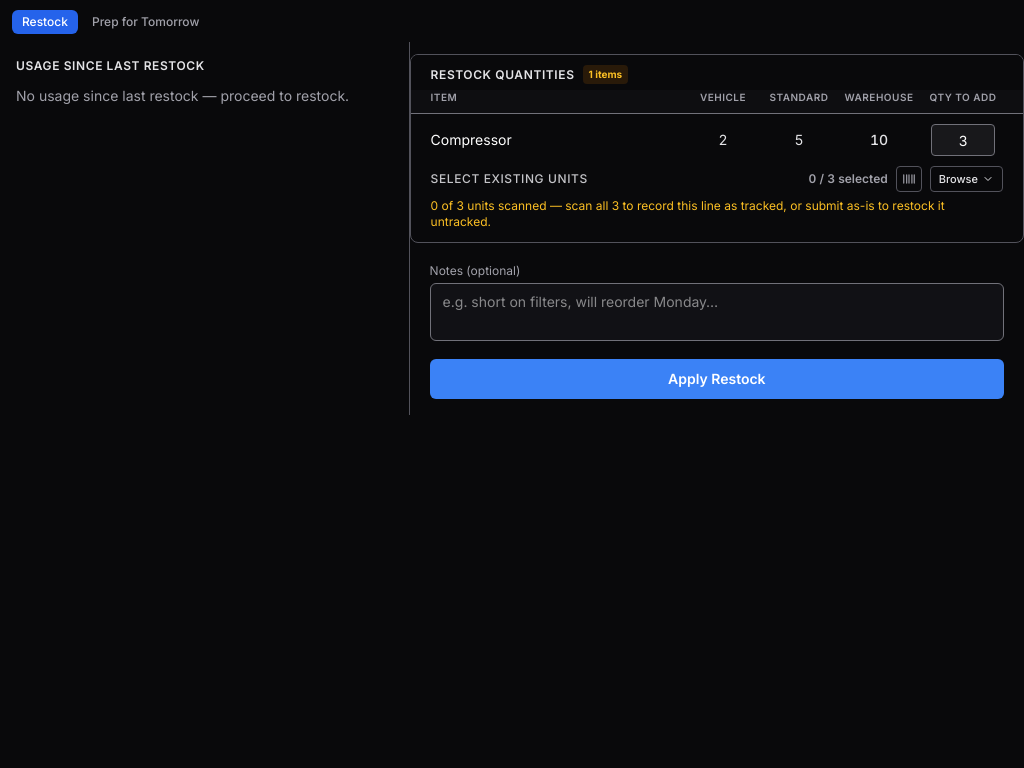
Test: RestockWorkflow — tracking capture (P8-2) › Browse reveals the candidate list and a serial search
Click the button "Browse". click: x=966, y=179
box: [930,166,1003,192]
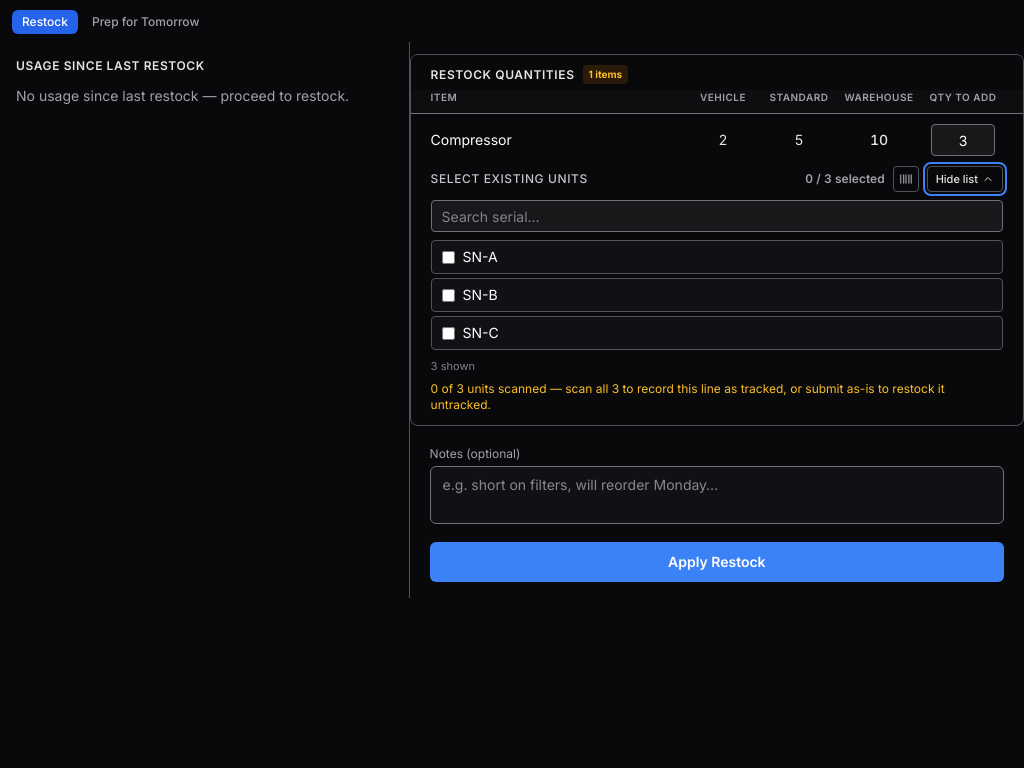
Expected: the text "SN-A" is shown, [463,248,498,265]
Expected: the search field named "Search serial numbers" is shown, [431,200,1003,232]
Expected: the button "Hide list" is shown, [927,166,1003,192]
